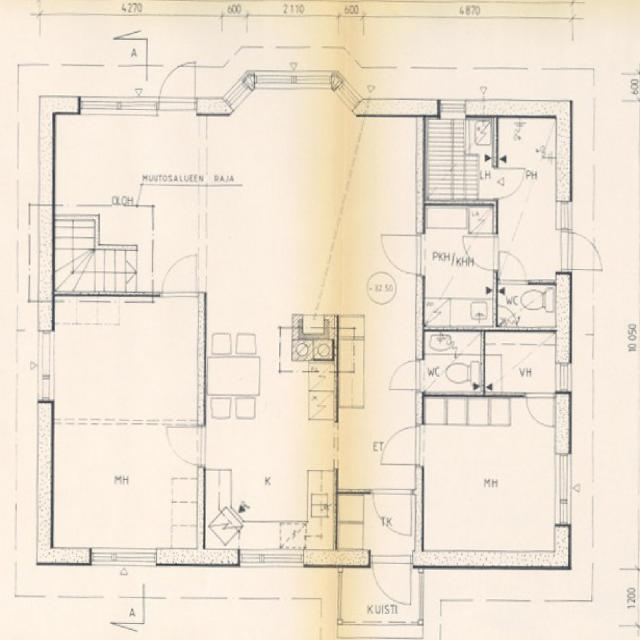door: (372, 550, 410, 609), (159, 58, 195, 115), (556, 232, 606, 268), (373, 489, 411, 536), (380, 235, 424, 274), (382, 427, 424, 464), (163, 427, 204, 464), (162, 254, 196, 296), (464, 237, 498, 269), (389, 360, 424, 390), (526, 391, 554, 427), (494, 168, 525, 198), (500, 252, 526, 284)
